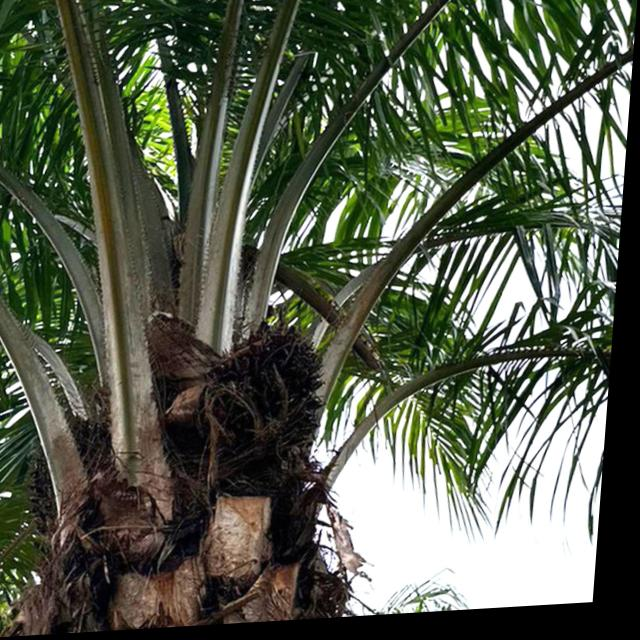ripe: (219, 318, 330, 443)
